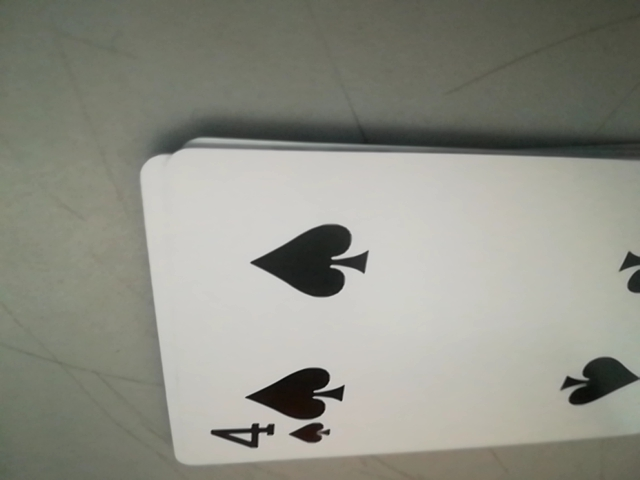ht 4: (193, 415, 344, 460)
